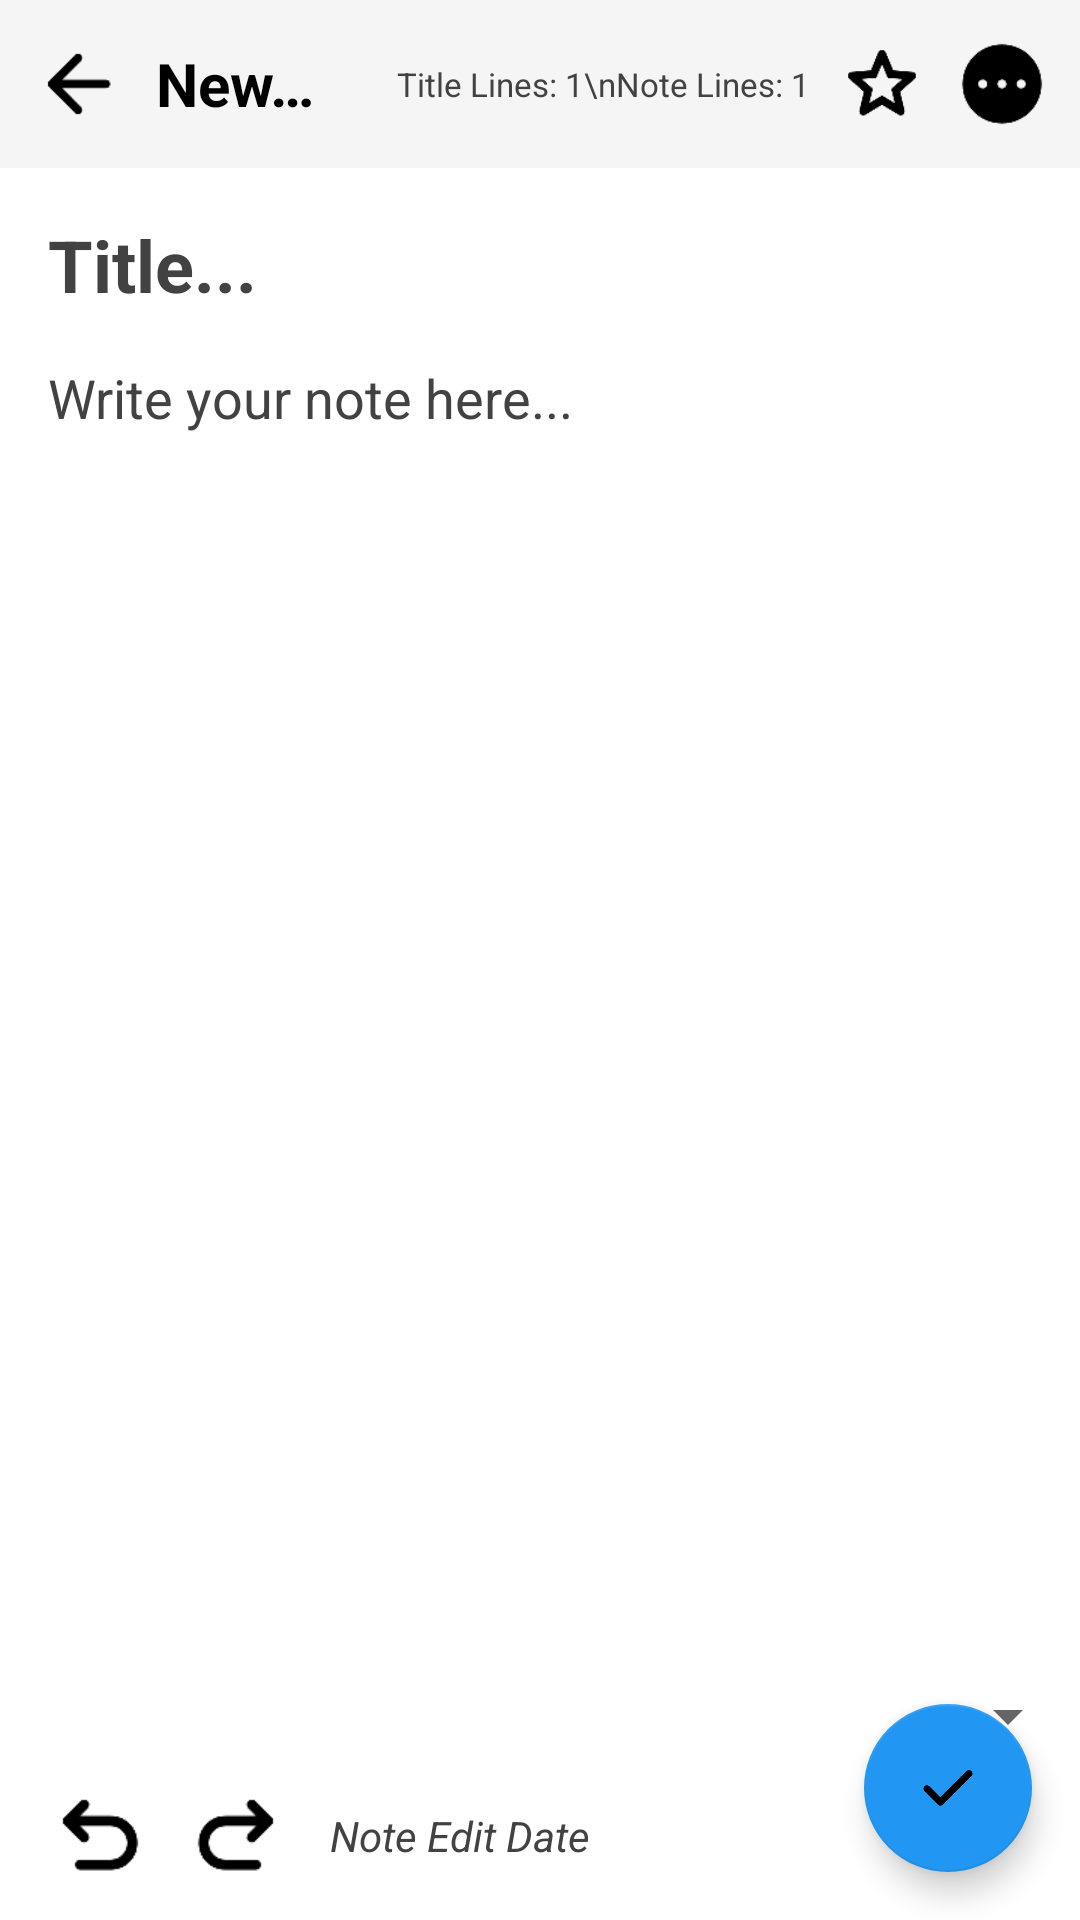

Where icons sit on this 1080 x 1920 app screen, as [x1=x1, y1=y1, x2=x2, y2=y2]:
arrow back: [x1=47, y1=54, x2=111, y2=115]
check: [x1=864, y1=1704, x2=1032, y2=1872]
pending: [x1=962, y1=44, x2=1042, y2=124]
redo: [x1=197, y1=1799, x2=274, y2=1871]
star: [x1=848, y1=50, x2=916, y2=116]
undo: [x1=62, y1=1799, x2=139, y2=1871]
